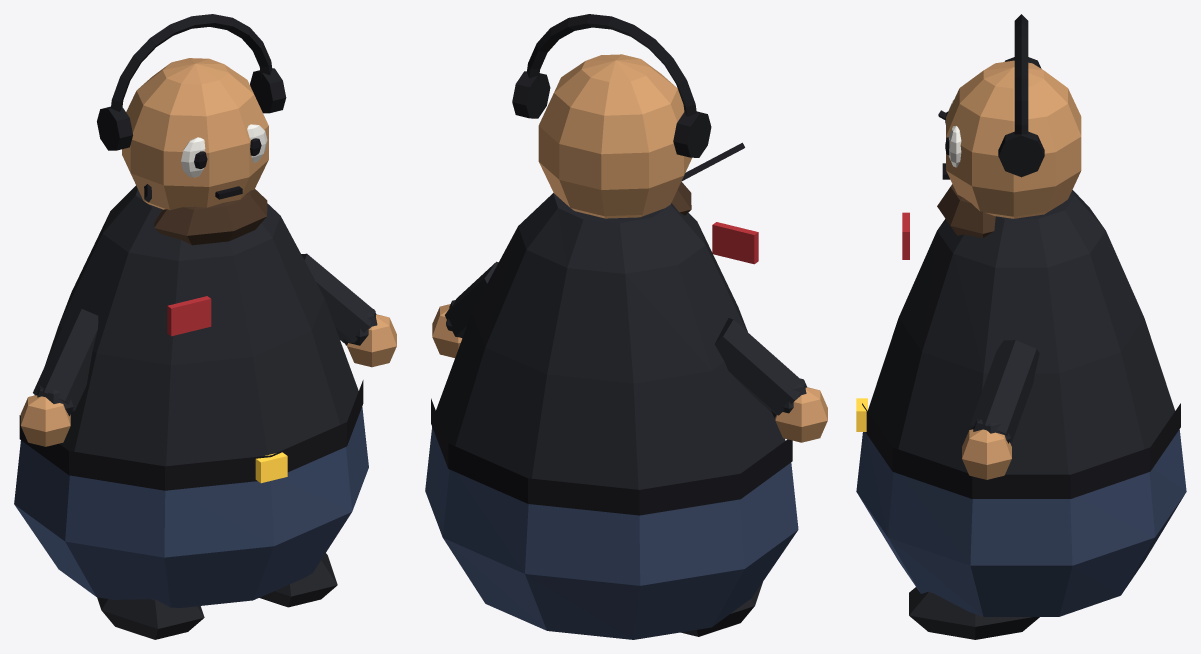
Rendered from npc_tecnico.glb.
3 renders of one model, left to right at view 1: azimuth 30°, elevation 25°; view 2: azimuth 150°, elevation 25°; view 3: azimuth 270°, elevation 25°, orthographic. The views are drawn at different scales.
Parts seen in each view (by area): view 1: body_tech_polo, body_tech_jeans, head_skin_arena, body_black, arms_tech_polo, head_headset, legs_tech_shoes, head_tech_beard, arms_skin_arena, props_tv_red, face_white, body_gold (+1 smaller); view 2: body_tech_polo, body_tech_jeans, head_skin_arena, body_black, head_headset, arms_tech_polo, arms_skin_arena, props_tv_red, legs_tech_shoes; view 3: body_tech_polo, body_tech_jeans, head_skin_arena, body_black, arms_tech_polo, head_headset, legs_tech_shoes, arms_skin_arena, head_tech_beard.
Part boxes in pixels (<box>): body_tech_polo: <box>44,185,358,466</box>; body_tech_jeans: <box>14,407,368,607</box>; head_skin_arena: <box>122,58,268,210</box>; body_black: <box>19,380,363,490</box>; arms_tech_polo: <box>33,253,377,416</box>; head_headset: <box>97,14,286,202</box>; legs_tech_shoes: <box>97,553,337,639</box>; head_tech_beard: <box>154,189,267,245</box>; arms_skin_arena: <box>20,314,396,446</box>; props_tv_red: <box>167,296,211,336</box>; face_white: <box>181,124,267,177</box>; body_gold: <box>255,452,287,483</box>; body_tech_polo: <box>436,193,785,489</box>; body_tech_jeans: <box>425,427,798,639</box>; head_skin_arena: <box>538,54,691,218</box>; body_black: <box>431,398,792,515</box>; head_headset: <box>512,14,744,181</box>; arms_tech_polo: <box>445,261,806,417</box>; arms_skin_arena: <box>432,304,827,442</box>; props_tv_red: <box>712,222,758,264</box>; legs_tech_shoes: <box>680,582,762,636</box>; body_tech_polo: <box>868,190,1174,474</box>; body_tech_jeans: <box>856,429,1186,616</box>; head_skin_arena: <box>946,60,1081,218</box>; body_black: <box>862,403,1180,498</box>; arms_tech_polo: <box>969,340,1039,443</box>; head_headset: <box>938,14,1044,177</box>; legs_tech_shoes: <box>909,587,1039,639</box>; arms_skin_arena: <box>962,429,1011,479</box>; head_tech_beard: <box>937,184,995,237</box>.
Size of the model in its own units: 1.13 by 1.66 by 0.86.
